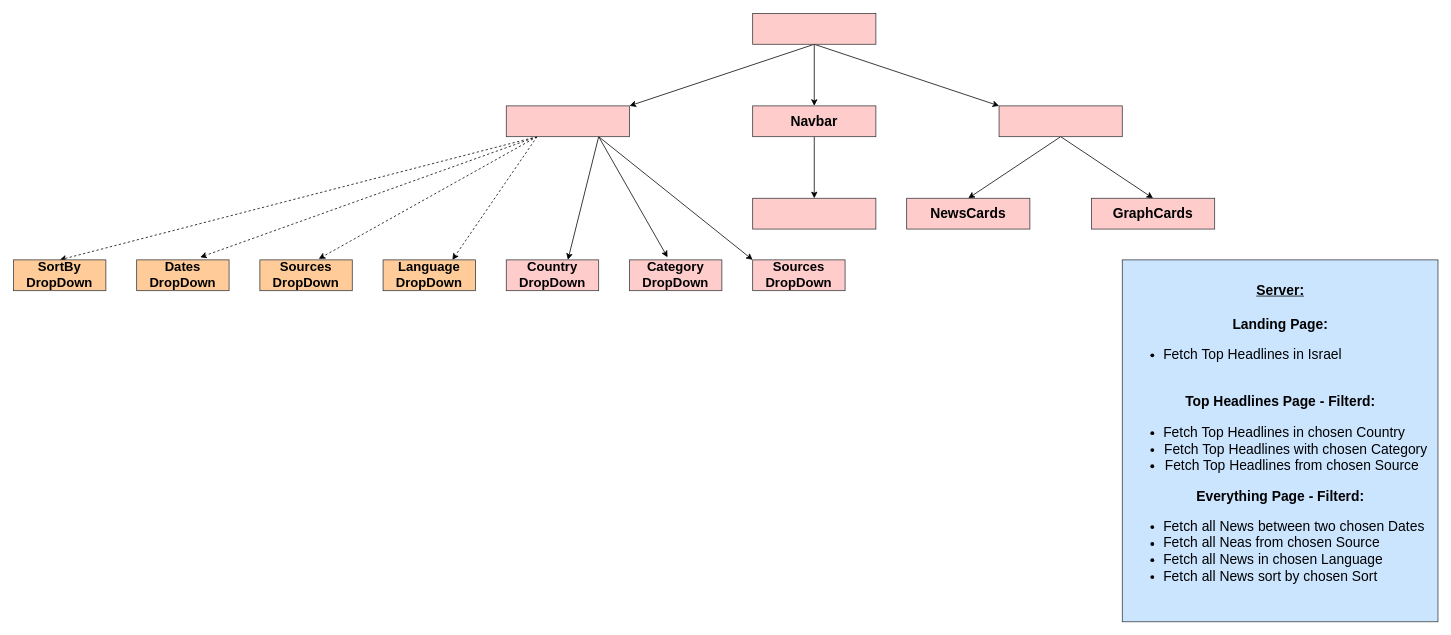
The diagram is 1451 pixels wide and 635 high, and some of its shapes have lost their labels. The box of each missing label's shape, as (x1, y1, x2, y2) in pixels:
AutoComplete: (752, 198, 876, 229)
Filters Layout: (506, 105, 629, 137)
Landing Page: (752, 13, 876, 44)
Main: (998, 105, 1122, 137)
